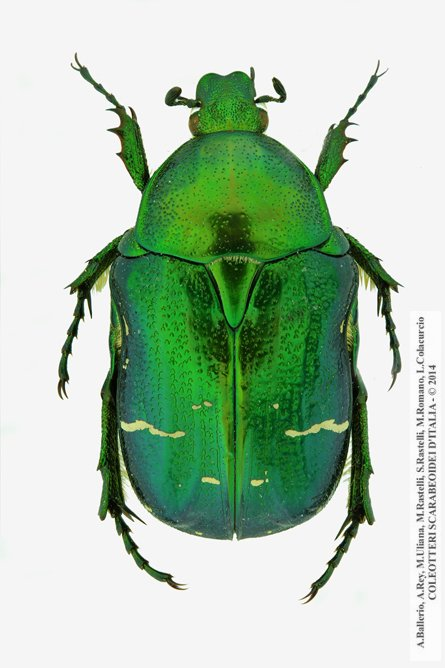Cetonia_aurata: (42, 34, 406, 605)
